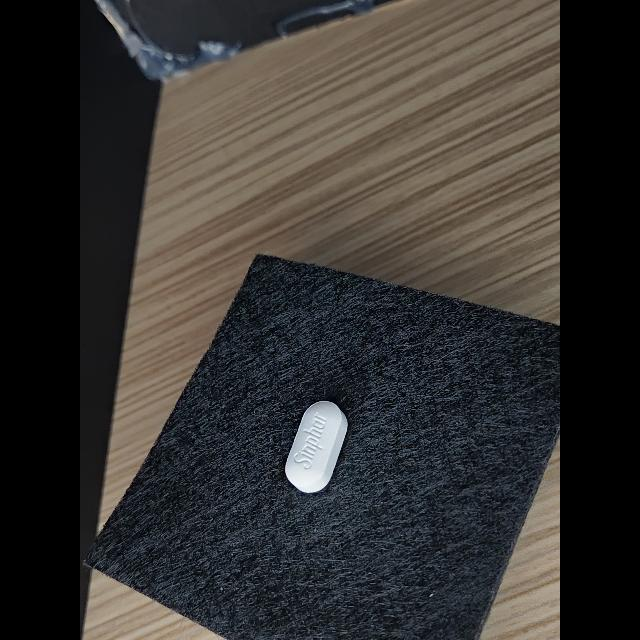Intact Pill: (285, 401, 348, 493)
